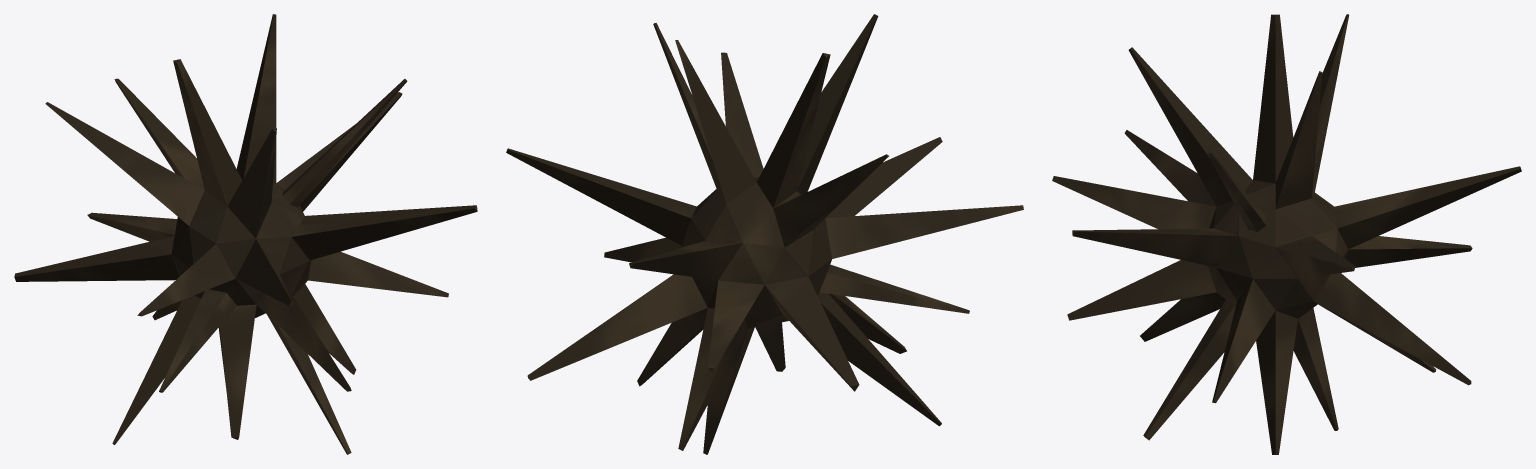
The model's file is art_crystal_thorn.obj.
The picture shows the model from 3 angles, left to right: view 1: azimuth 30°, elevation 25°; view 2: azimuth 150°, elevation 25°; view 3: azimuth 270°, elevation 25°; orthographic projection. The views are drawn at different scales.
Parts seen in each view (by area): view 1: art_crystal_thorn_Icosphere.003; view 2: art_crystal_thorn_Icosphere.003; view 3: art_crystal_thorn_Icosphere.003.
Boxes of the visible parts, x1,y1,x2,y2 form: art_crystal_thorn_Icosphere.003: (14, 14, 477, 454); art_crystal_thorn_Icosphere.003: (506, 14, 1023, 454); art_crystal_thorn_Icosphere.003: (1052, 14, 1521, 454).
Bounding box in the file's own units: 8.87 × 8.5 × 9.59.
